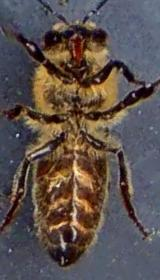varroa_mite: (26, 63, 69, 98)
